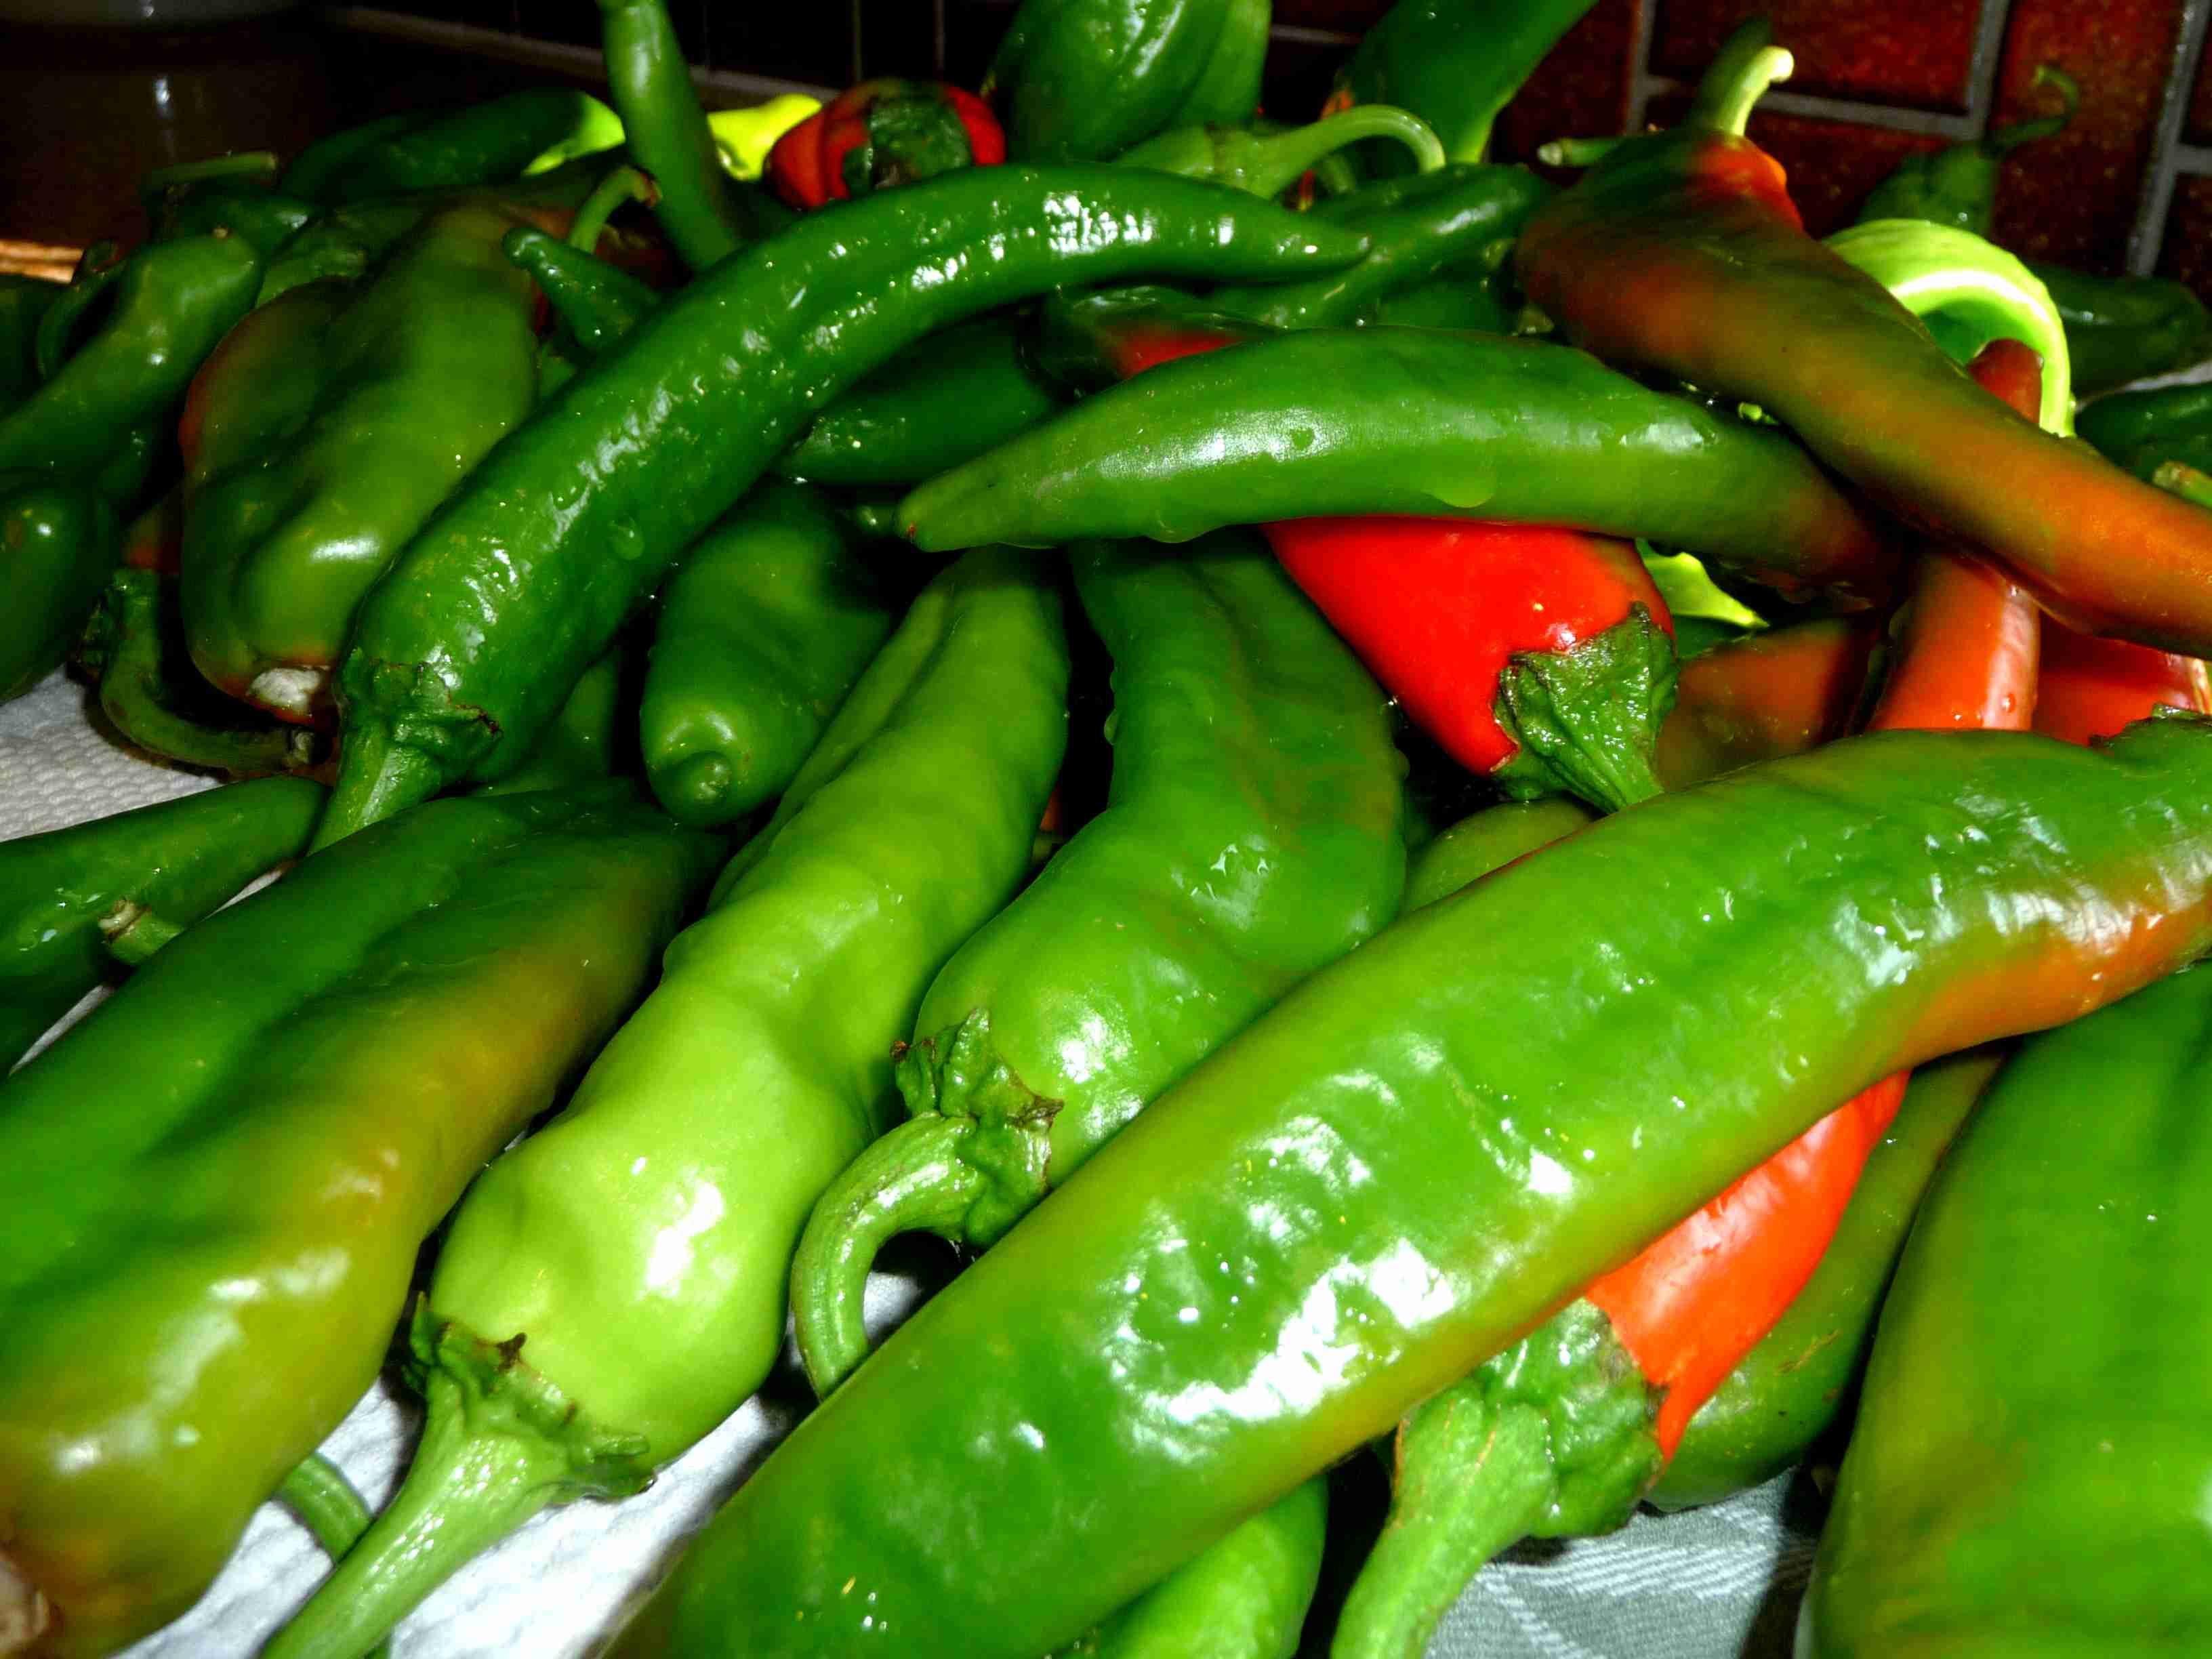chilli pepper: (3, 2, 2205, 1656), (648, 704, 2209, 1656), (254, 542, 1073, 1656), (310, 153, 1390, 847), (3, 775, 718, 1654), (1508, 23, 2209, 650), (892, 321, 1883, 586), (1259, 512, 1681, 800)
